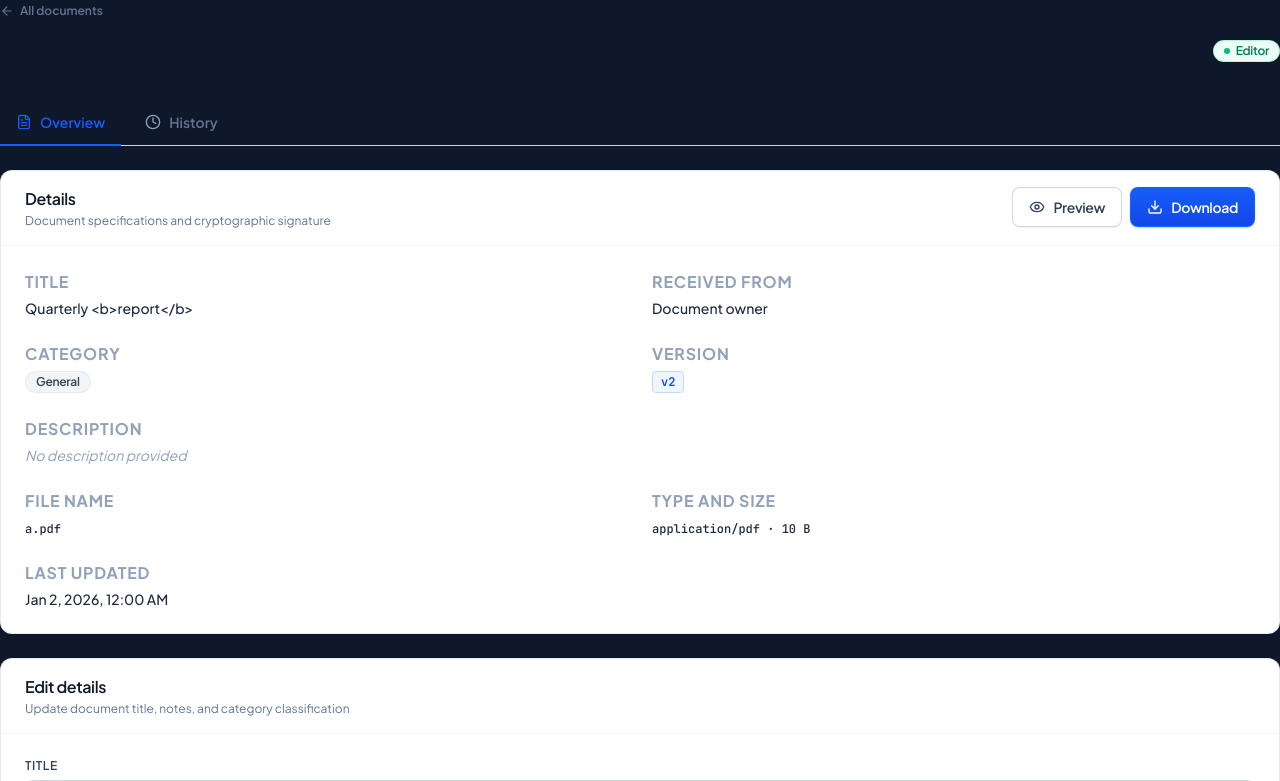
Scenario: permission-based UI › editor can preview, download and retrieve old versions, edit and replace but not delete or share
Expected: the heading "Edit details" is shown, x1=25 y1=676 x2=106 y2=697
Expected: the button "Preview" is shown, x1=1012 y1=187 x2=1122 y2=227
Click the tab "History".
click(182, 123)  # box x1=129 y1=100 x2=234 y2=146
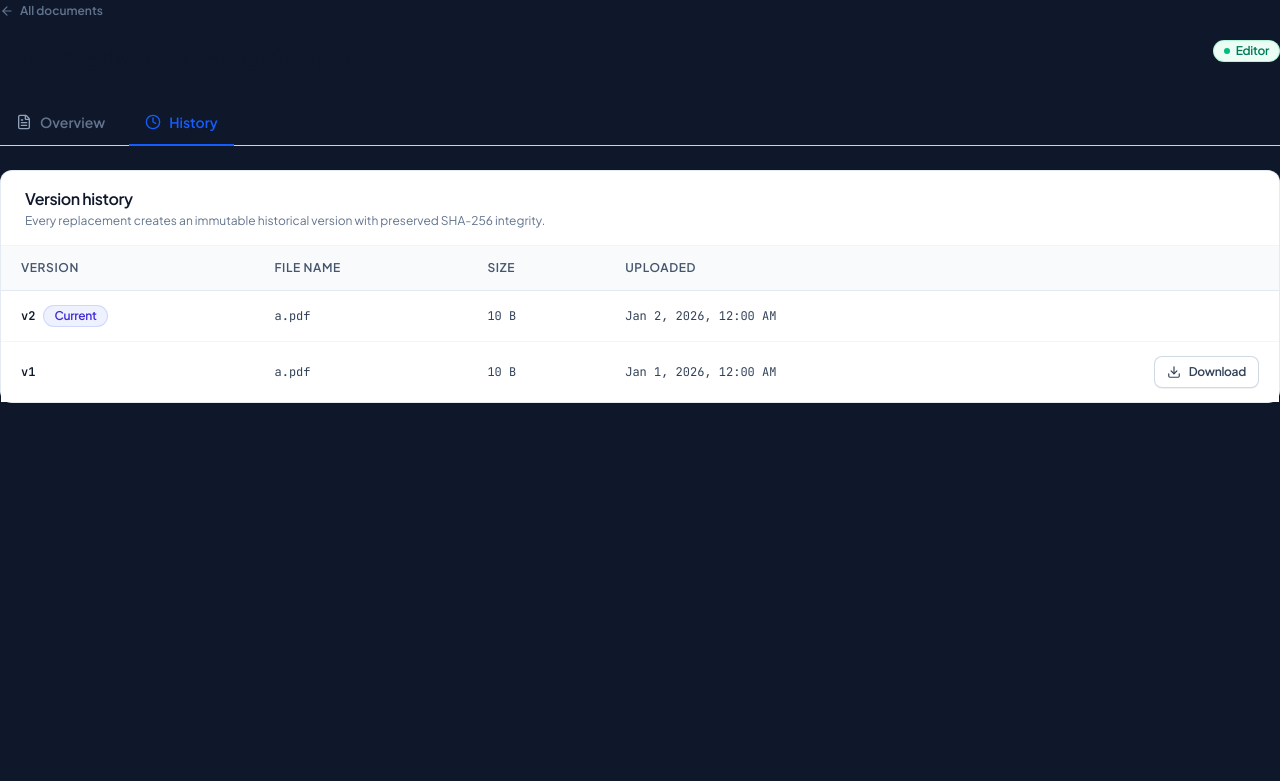
Expected: the button with aria-label "download version 1" is shown, x1=1154 y1=356 x2=1259 y2=388
